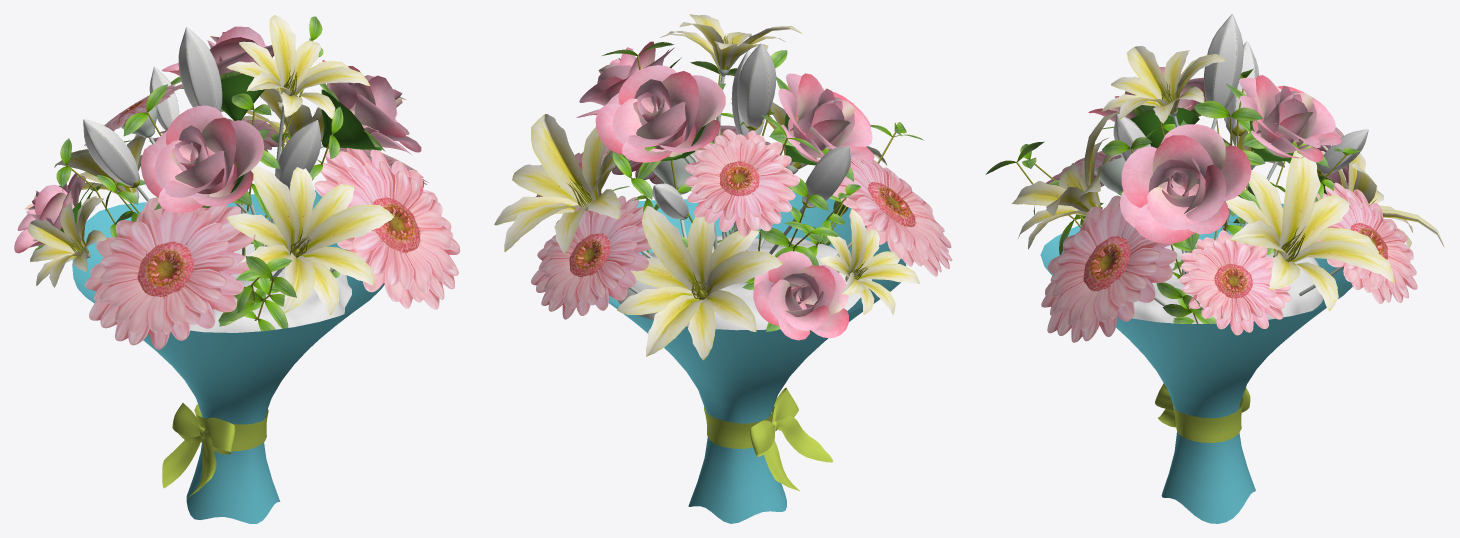
The model's file is flower.fbx.
3 views of the same model, side by side, from view 1: azimuth 30°, elevation 25°; view 2: azimuth 150°, elevation 25°; view 3: azimuth 270°, elevation 25° (orthographic). The views are drawn at different scales.
Parts seen in each view (by area): view 1: Flowers, Wrapping, Branches, Stems, Fill; view 2: Flowers, Wrapping, Branches, Fill, Stems; view 3: Flowers, Wrapping, Branches, Stems, Fill.
Boxes of the visible parts, x1,y1,x2,y2 form: Flowers: [14, 15, 460, 349]; Wrapping: [72, 190, 384, 523]; Branches: [56, 16, 423, 331]; Stems: [38, 73, 391, 414]; Fill: [190, 243, 351, 332]; Flowers: [494, 14, 952, 360]; Wrapping: [609, 191, 906, 523]; Branches: [602, 42, 923, 289]; Fill: [618, 233, 871, 330]; Stems: [627, 69, 866, 331]; Flowers: [1012, 14, 1444, 342]; Wrapping: [1040, 196, 1352, 523]; Branches: [985, 68, 1361, 323]; Stems: [1094, 107, 1343, 414]; Fill: [1132, 234, 1323, 323].
Size of the model in its own units: 172 by 211 by 186.
